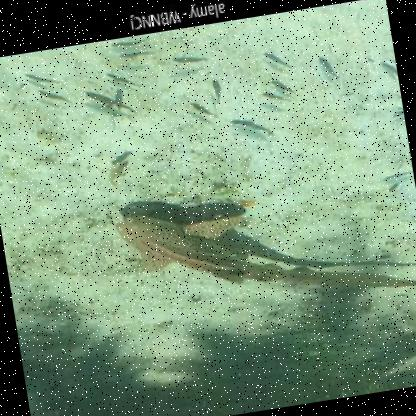zebra_shark: (108, 156, 415, 346)
